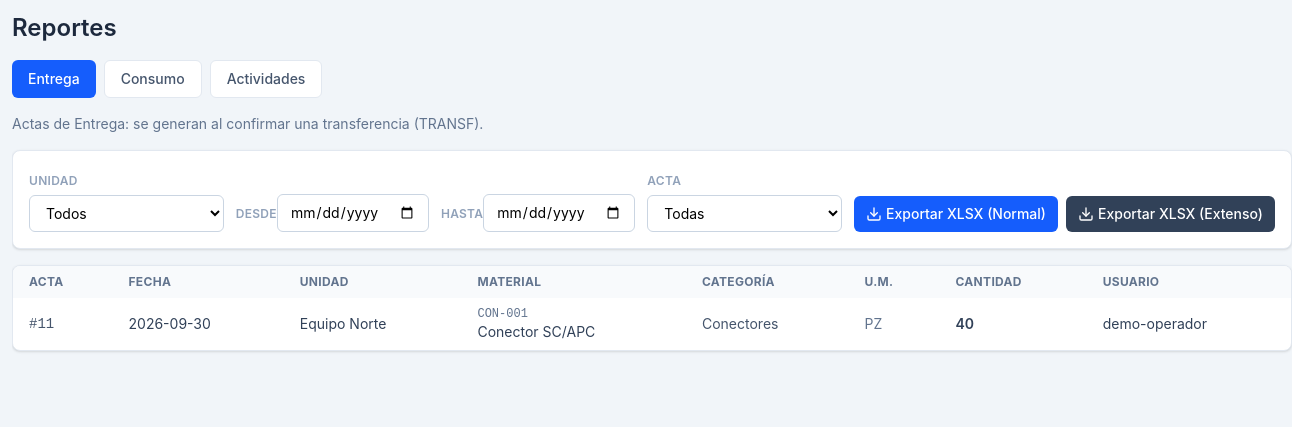
Test: Reportes — exportación XLSX (descarga de blob) › 422: informa filtros inválidos
Expected: the text "Conector SC/APC" is shown, x1=478 y1=323 x2=595 y2=340
Click the button "Exportar XLSX (Extenso)": (1170, 214) x1=1066 y1=196 x2=1275 y2=232
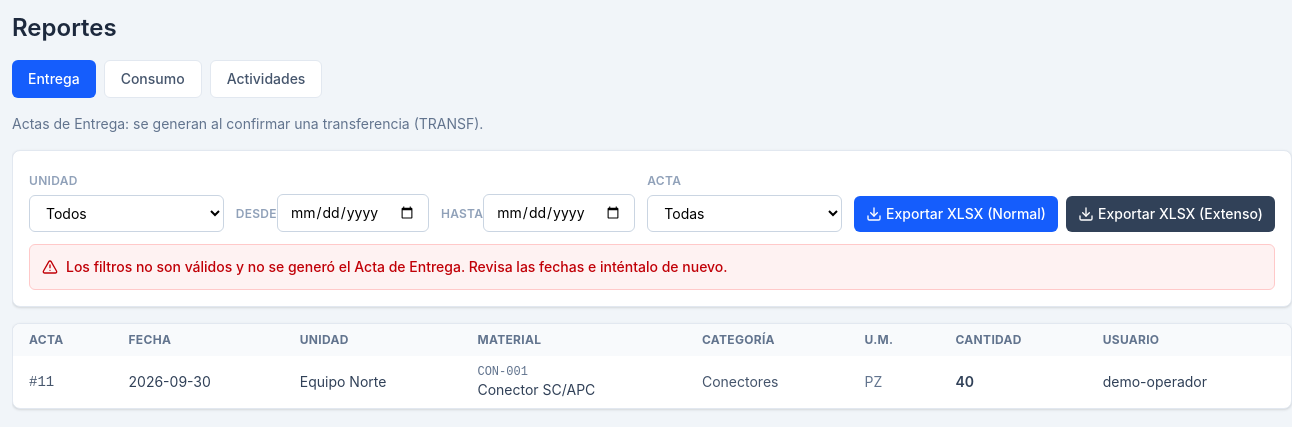
Expected: the message shows "Los filtros no son válidos", x1=66 y1=258 x2=728 y2=275
